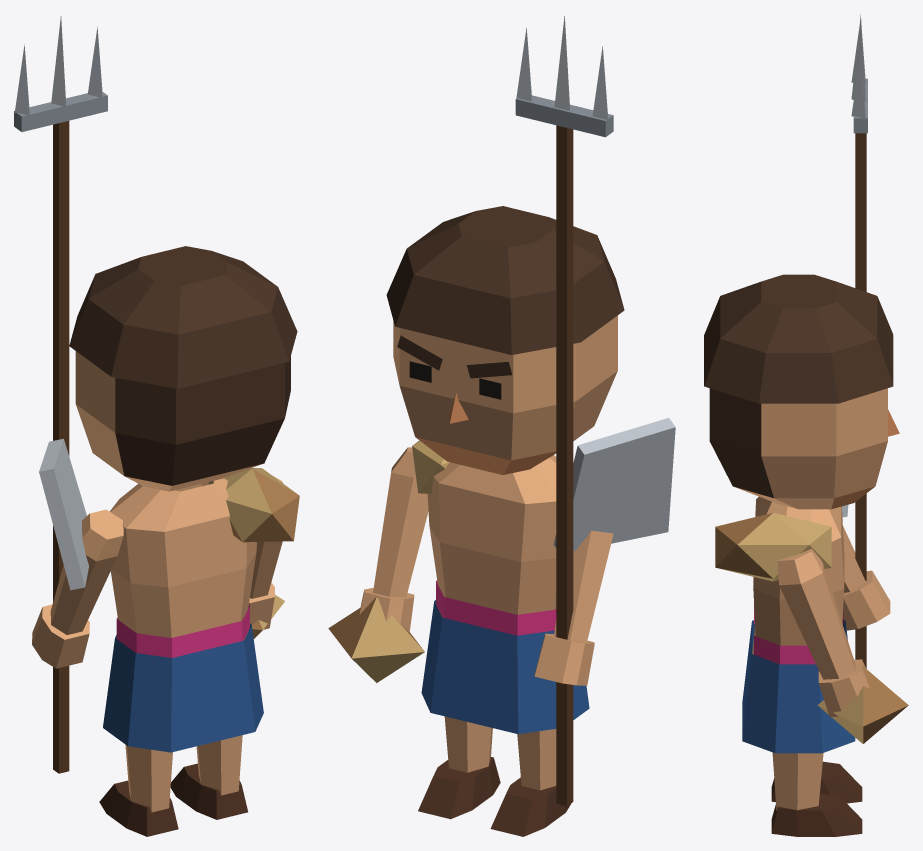
The model's file is EN_NetThrower.fbx.
The picture shows the model from 3 angles, left to right: view 1: azimuth 30°, elevation 25°; view 2: azimuth 150°, elevation 25°; view 3: azimuth 270°, elevation 25°; orthographic projection. The views are drawn at different scales.
Parts seen in each view (by area): view 1: Head, Body, ArmL, LegL, LegR, ArmR; view 2: Head, Body, ArmL, ArmR, LegR, LegL; view 3: Head, Body, ArmR, ArmL, LegR, LegL.
Part boxes in pixels (box(x1,y1,x2,y2)): Head: box(69, 246, 297, 491); Body: box(39, 438, 299, 752); ArmL: box(14, 16, 123, 773); LegL: box(99, 744, 178, 836); LegR: box(170, 735, 247, 819); ArmR: box(249, 476, 284, 638); Head: box(386, 206, 624, 474); Body: box(412, 418, 675, 734); ArmL: box(515, 16, 613, 806); ArmR: box(328, 447, 428, 682); LegR: box(418, 716, 500, 819); LegL: box(490, 729, 571, 836); Head: box(704, 274, 899, 509); Body: box(715, 496, 855, 753); ArmR: box(777, 548, 908, 743); ArmL: box(843, 14, 890, 668); LegR: box(771, 752, 862, 836); LegL: box(771, 761, 862, 803).
Bounding box in the file's own units: 0.7427 × 0.4802 × 1.95.
